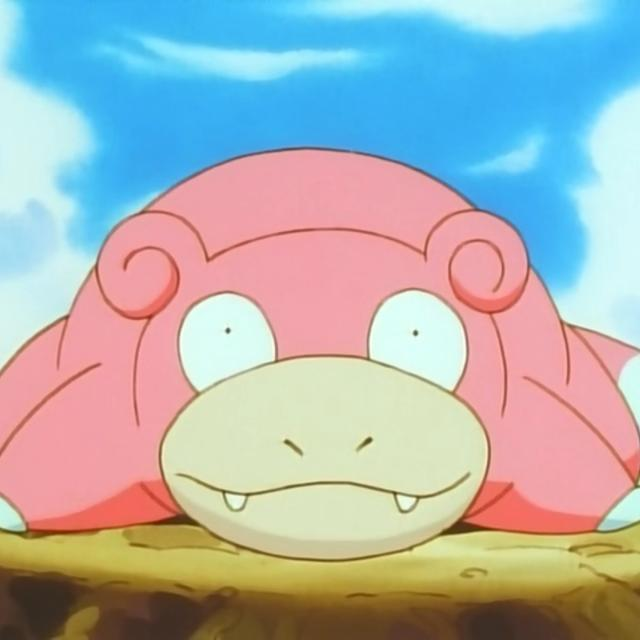Slowpoke: (0, 134, 640, 575)
